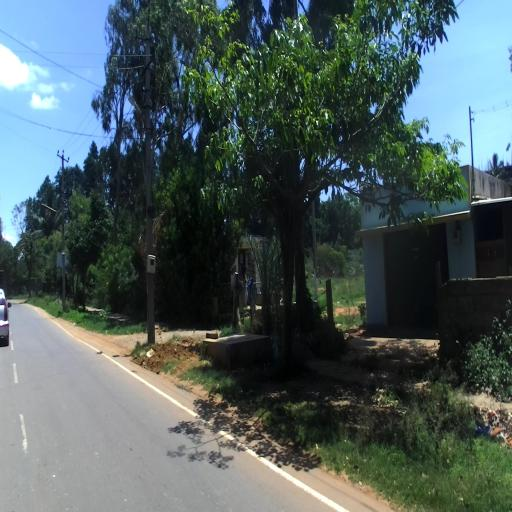street_light_0: (129, 96, 152, 138), (41, 203, 64, 232)
